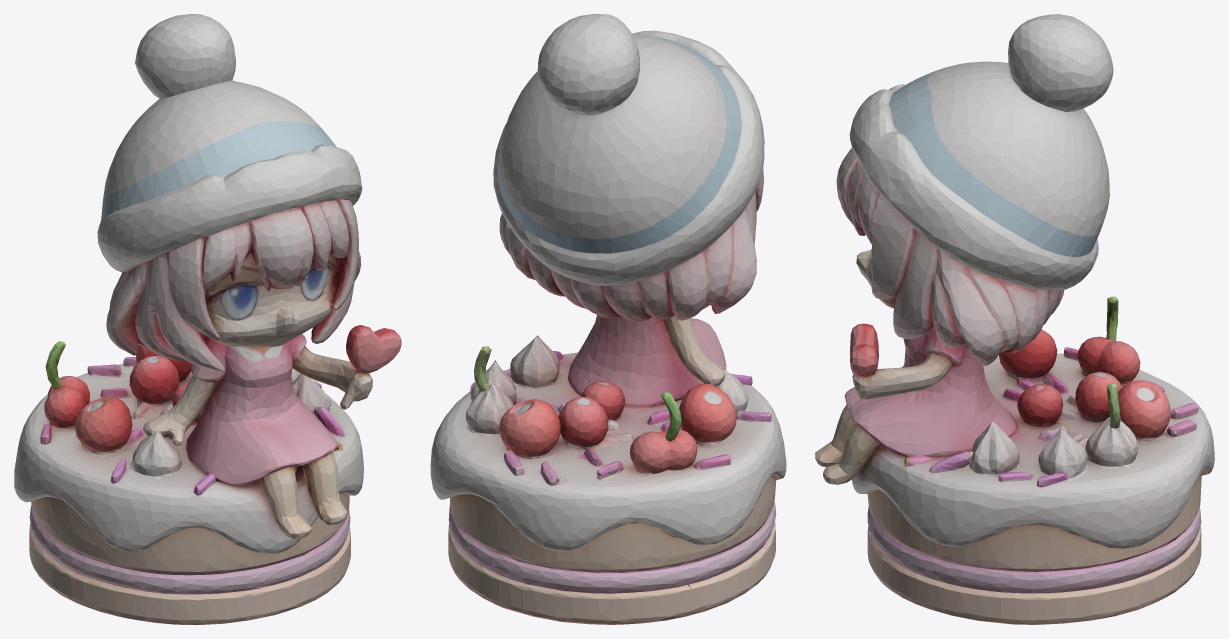
The model's file is ori.glb.
3 views of the same model, side by side, from view 1: azimuth 30°, elevation 25°; view 2: azimuth 150°, elevation 25°; view 3: azimuth 270°, elevation 25° (orthographic). The views are drawn at different scales.
Visible parts, largest first — view 1: world; view 2: world; view 3: world.
Boxes of the visible parts, x1=… form: world: x1=14, y1=14, x2=401, y2=624; world: x1=430, y1=14, x2=786, y2=624; world: x1=815, y1=14, x2=1214, y2=624.
Bounding box in the file's own units: 0.5726 × 0.9961 × 0.663.
1 material, 1 textured.
